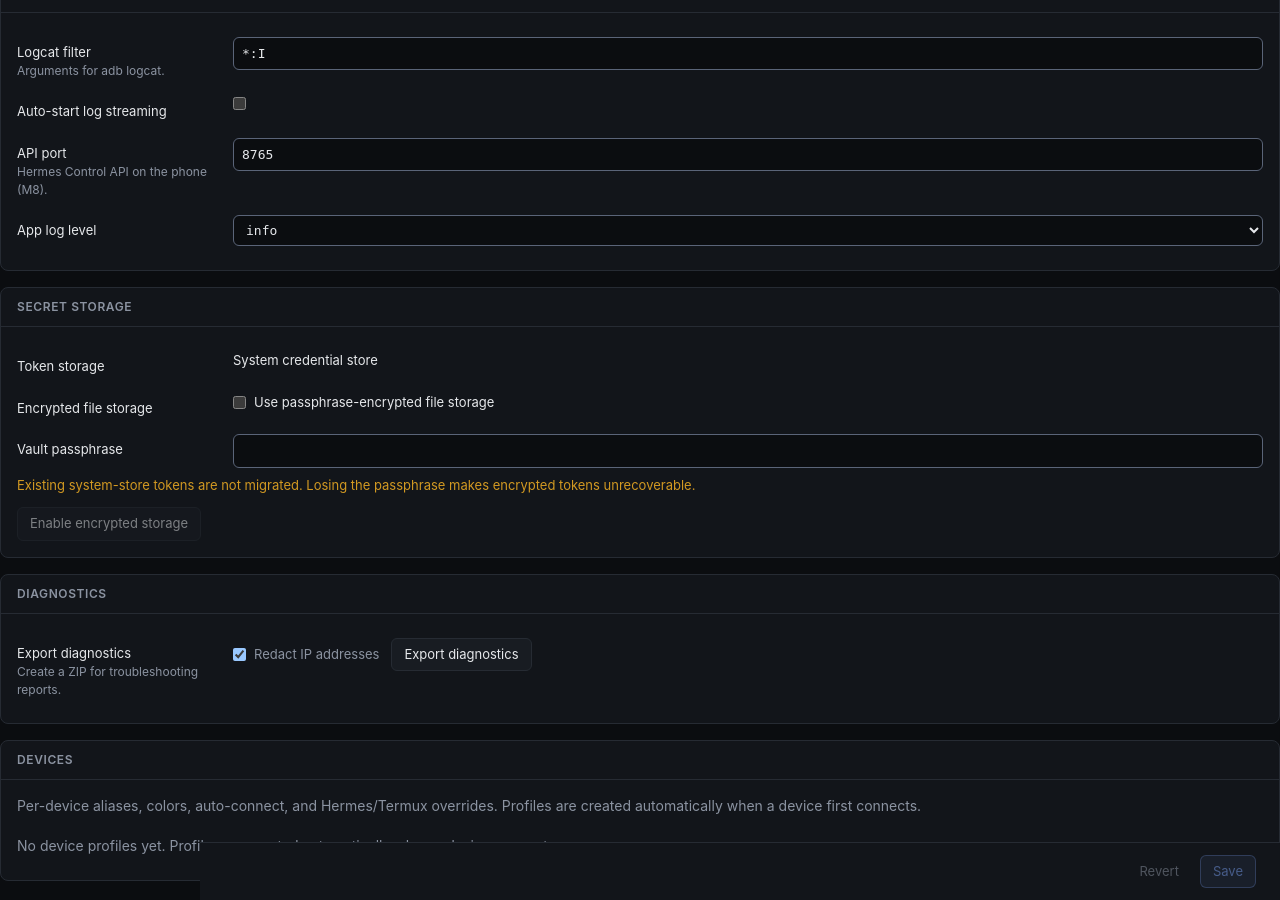
Test: SettingsView › requires explicit vault consent and clears the passphrase after unlock
(page scrolled)
Expected: the text "System credential store" is shown, [233,352,378,368]
In the password field named "Vault passphrase": (748, 451) [233,434,1263,468], type "test vault passphrase"
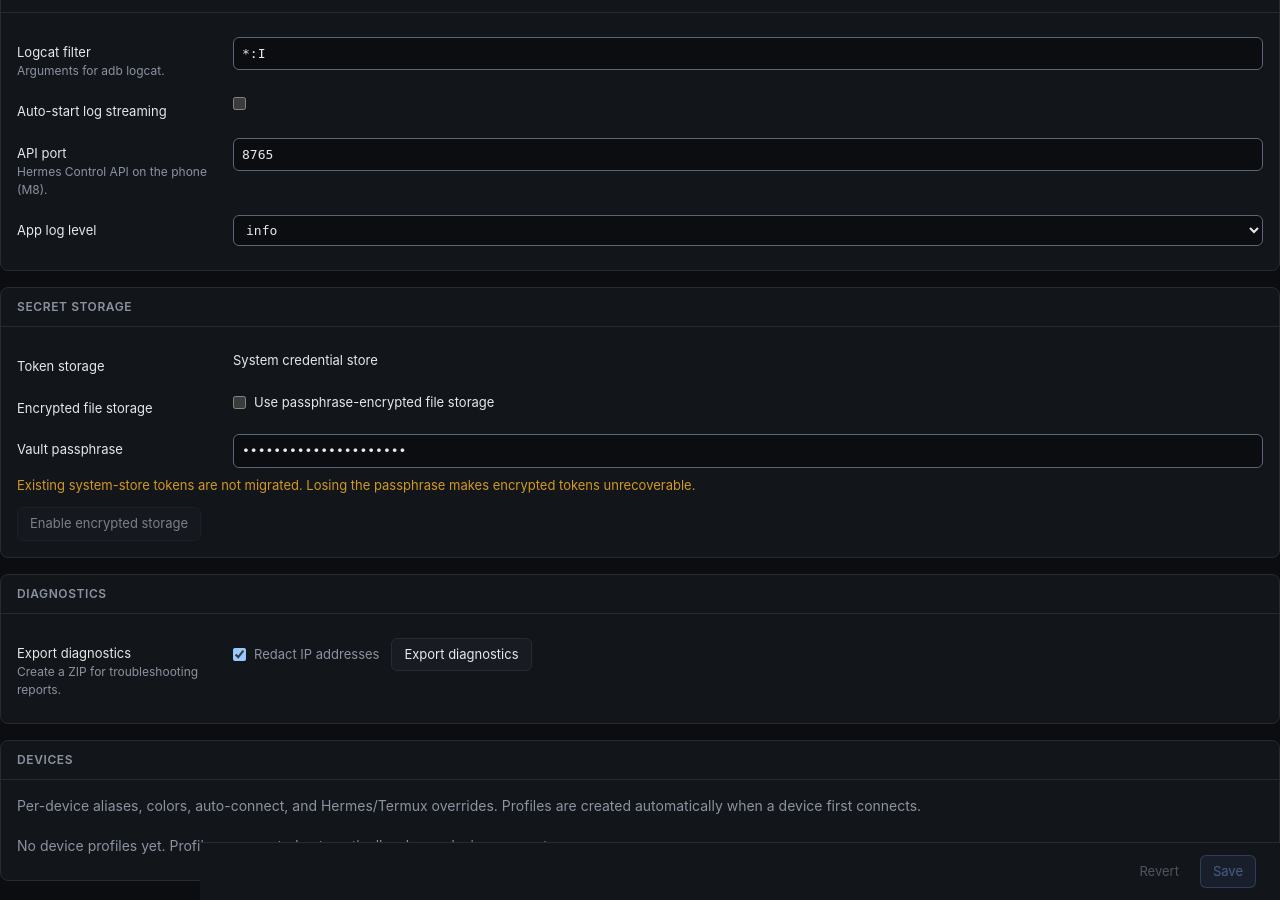
Expected: the button "Enable encrypted storage" is disabled, [17,507,201,540]
Click the checkbox labelled "Use passphrase-encrypted file storage": (240, 402) [233,396,246,409]
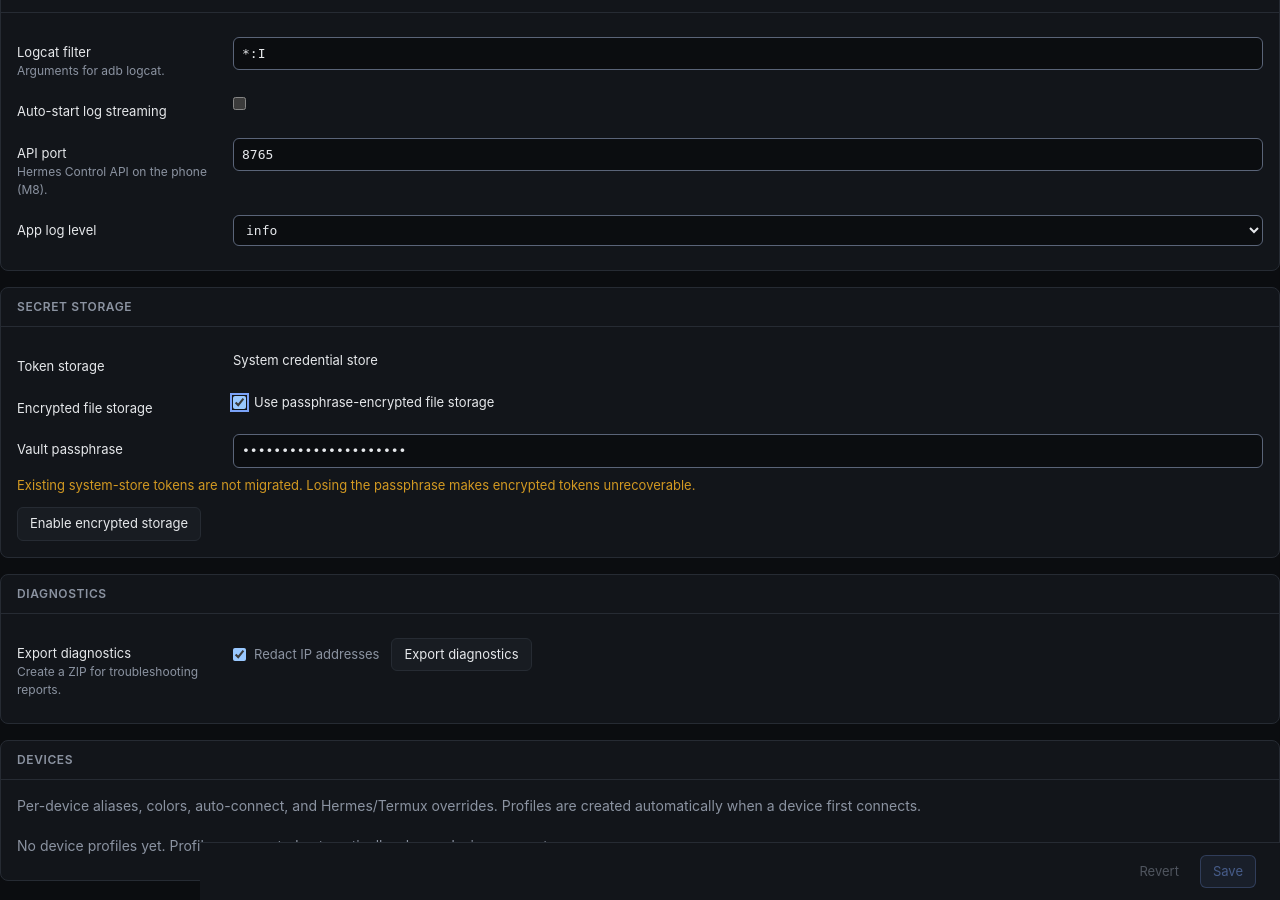
Click the button "Enable encrypted storage": (109, 524) [17,507,201,540]
(page scrolled)
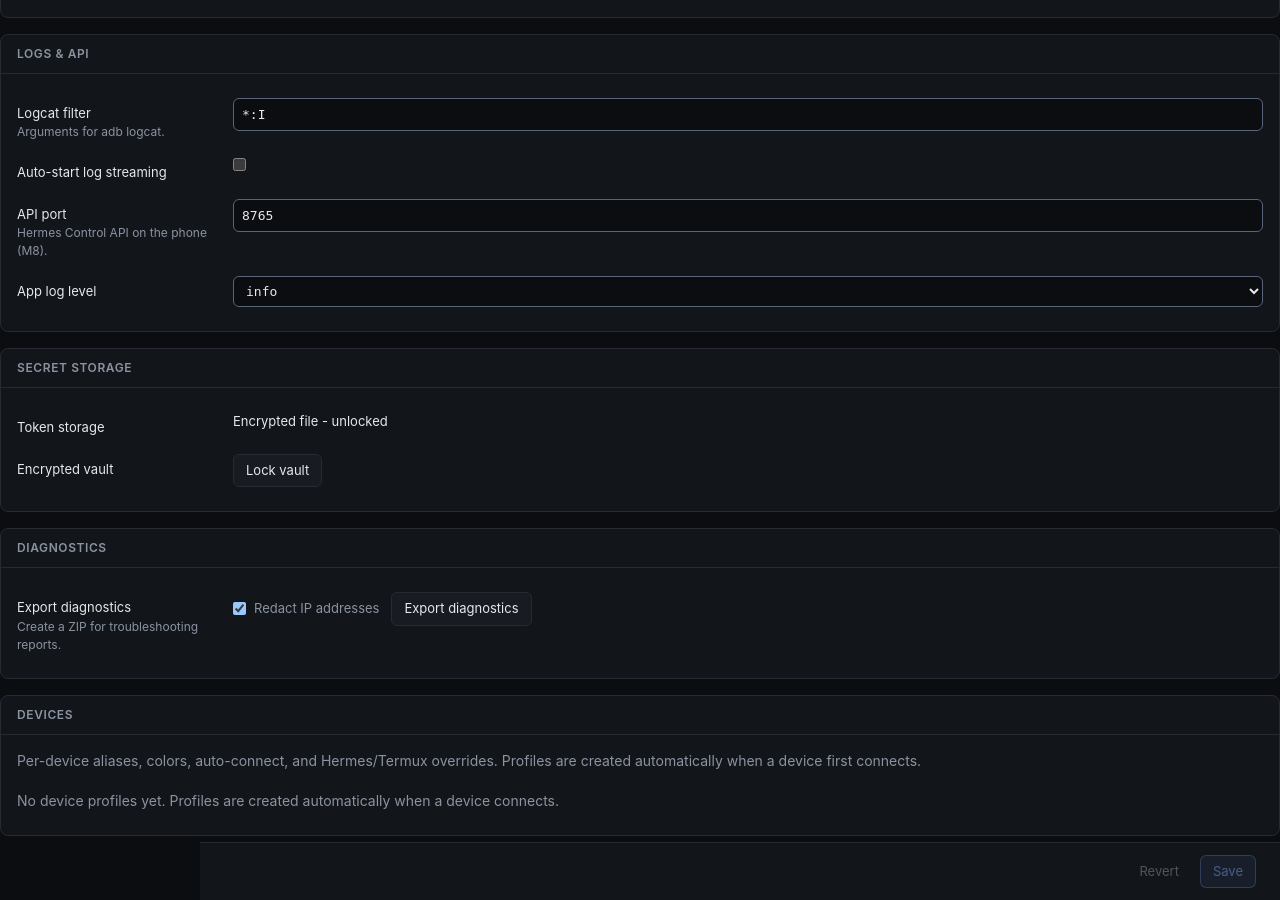
Expected: the text "Encrypted file - unlocked" is shown, [233,413,388,429]
Expected: the text labelled "Vault passphrase" is gone
Click the button "Lock vault": (278, 470) [233,454,322,487]
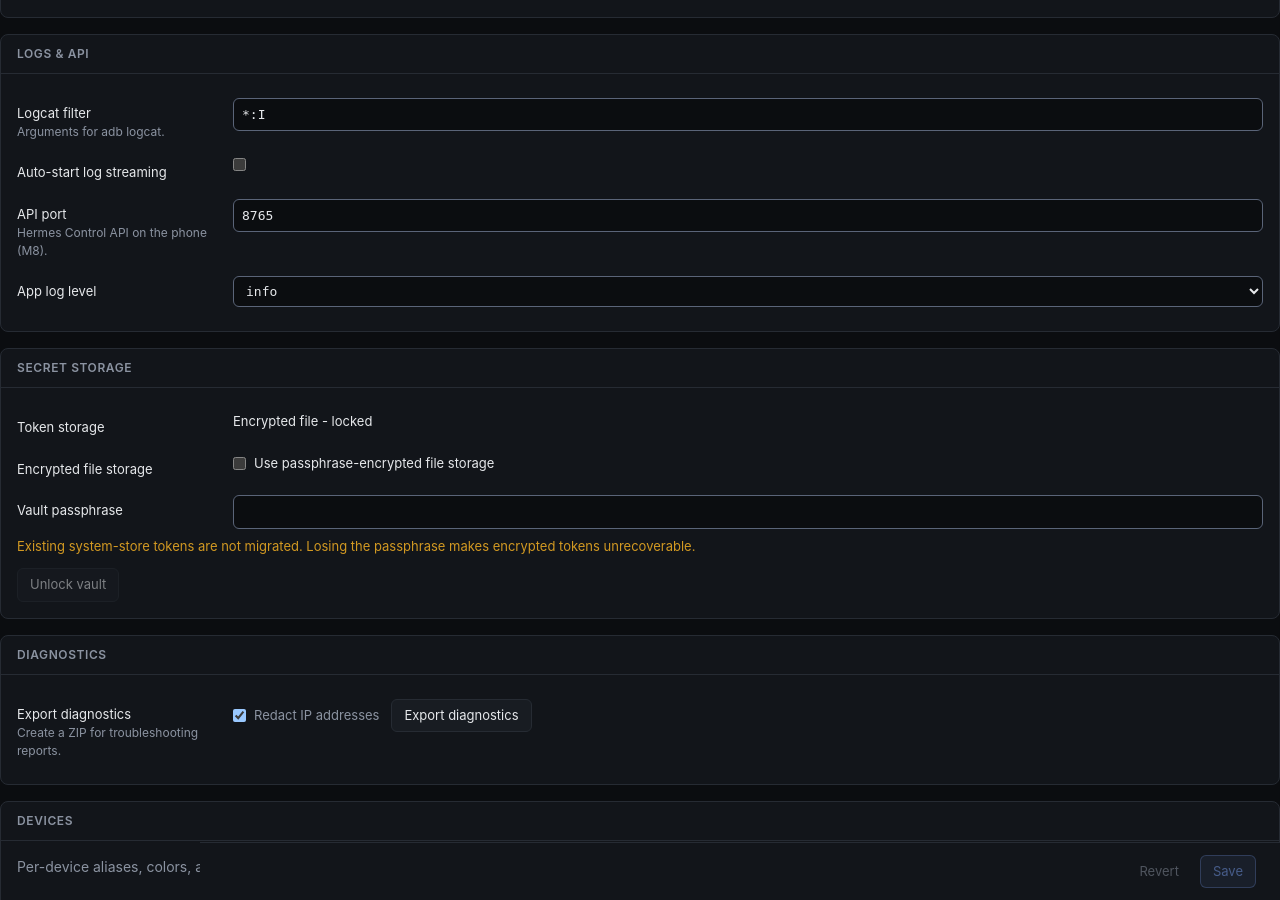
Expected: the password field named "Vault passphrase" is empty, [233,495,1263,528]
Expected: the button "Unlock vault" is disabled, [17,568,119,602]
